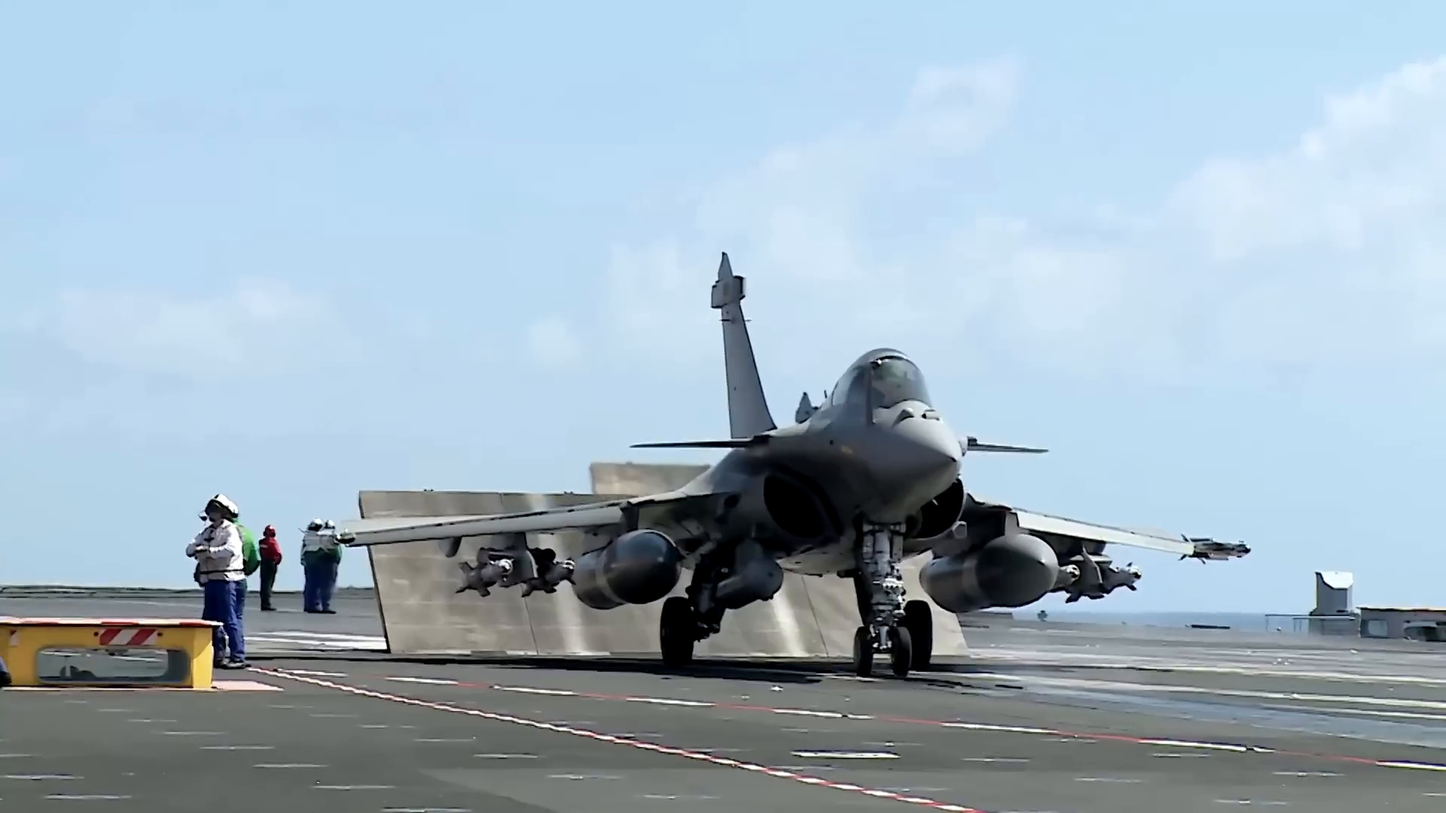Rafale: (318, 251, 1252, 677)
